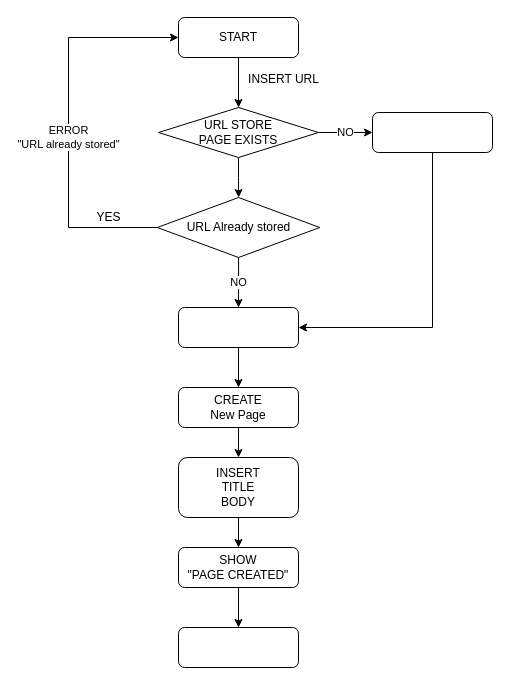
Image size: 510x685. Some labels were removed from this diagram. The shapes that lost their labels are listed below. From the top down, each one's centre as x and y in pixels, then its label:
At point (432, 132): "CRATE URL store PAGE".
At point (238, 327): "Insert URL to URL store page".
At point (238, 647): "END".
